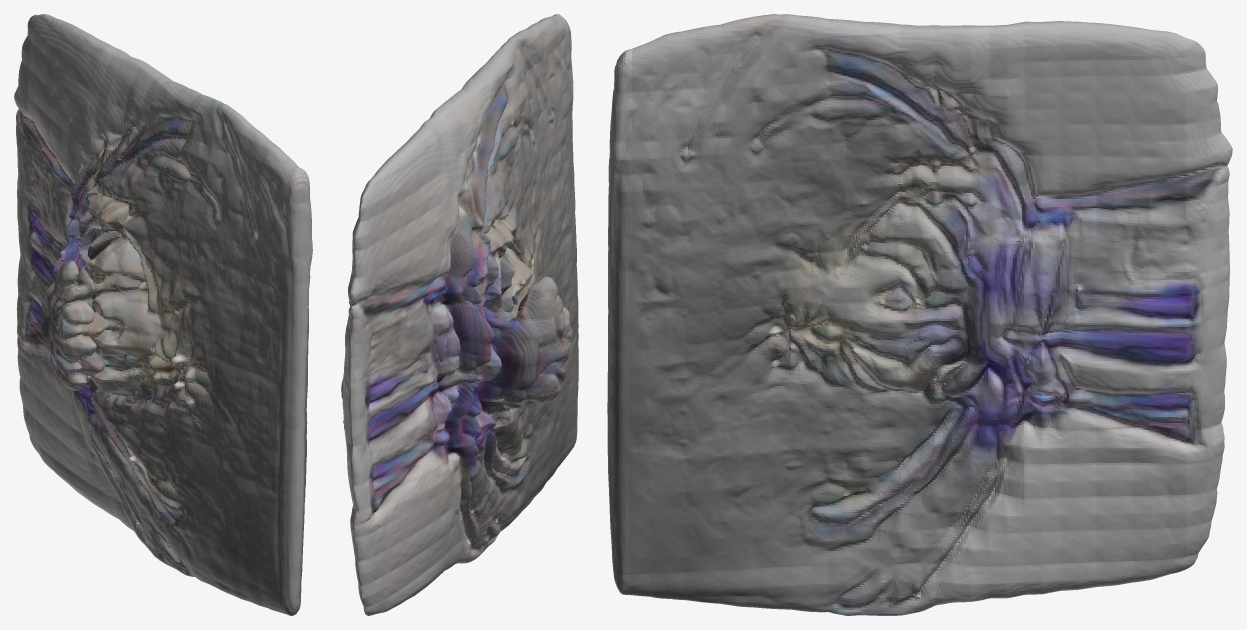
The model's file is fata.glb.
The picture shows the model from 3 angles, left to right: view 1: azimuth 30°, elevation 25°; view 2: azimuth 150°, elevation 25°; view 3: azimuth 270°, elevation 25°; orthographic projection. The views are drawn at different scales.
Parts seen in each view (by area): view 1: world; view 2: world; view 3: world.
Boxes of the visible parts, x1=… form: world: x1=14, y1=14, x2=312, y2=615; world: x1=341, y1=14, x2=578, y2=615; world: x1=607, y1=14, x2=1232, y2=615.
Size of the model in its own units: 0.2949 by 1.02 by 0.9497.
